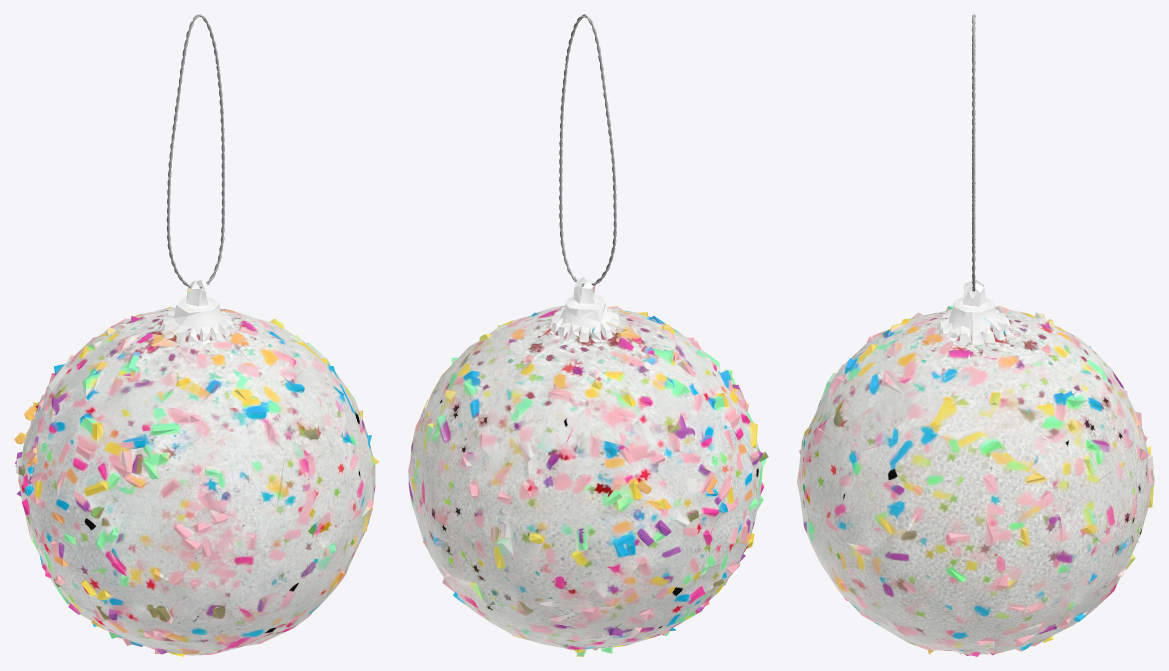
The model's file is Sprinkle_covered_ornament.glb.
3 views of the same model, side by side, from view 1: azimuth 30°, elevation 25°; view 2: azimuth 150°, elevation 25°; view 3: azimuth 270°, elevation 25° (orthographic).
Parts seen in each view (by area): view 1: Mesh1.0, GN Instance; view 2: Mesh1.0, GN Instance; view 3: Mesh1.0, GN Instance.
Boxes of the visible parts, x1,y1,x2,y2 form: Mesh1.0: (14,280,379,656); GN Instance: (166,14,225,288); Mesh1.0: (408,277,768,656); GN Instance: (559,14,616,286); Mesh1.0: (797,279,1154,656); GN Instance: (972,14,975,291).
Bounding box in the file's own units: 0.0731 × 0.1392 × 0.0721.
2 materials, 1 textured.
